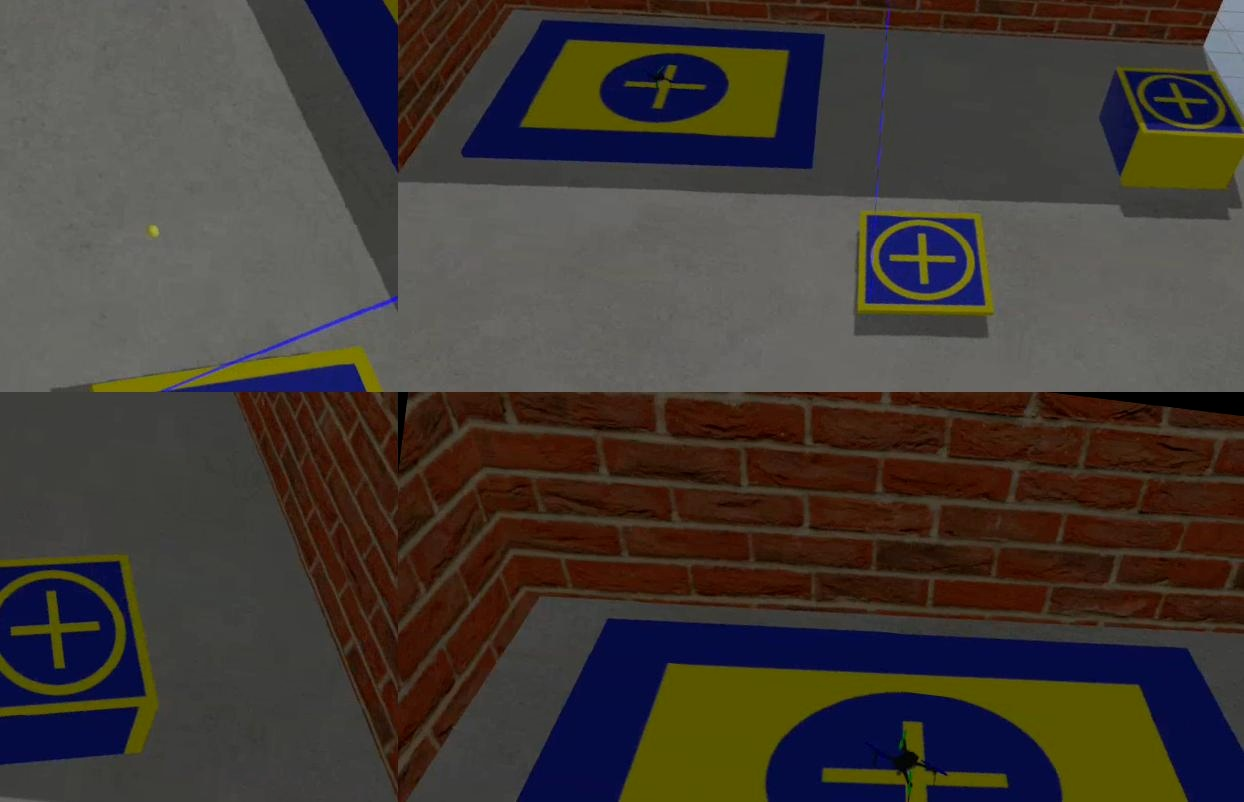large_base: (405, 549, 1244, 802), (464, 1, 832, 200), (128, 1, 398, 236)
small_base: (0, 535, 180, 743), (80, 311, 398, 392), (848, 200, 1007, 333), (1106, 58, 1244, 152)
